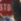Stop sign: (0, 0, 20, 20)
